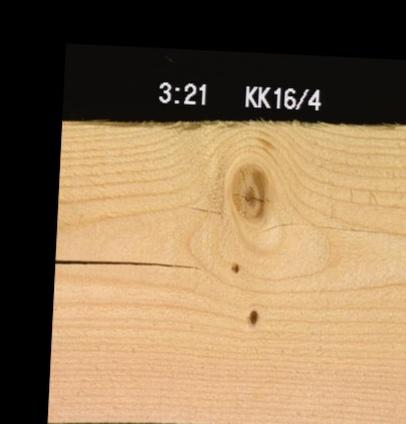small_knot: (246, 307, 258, 326), (227, 259, 240, 274)
sound_knot: (228, 162, 266, 220)
split: (54, 258, 202, 269)
wave: (61, 114, 251, 140)
